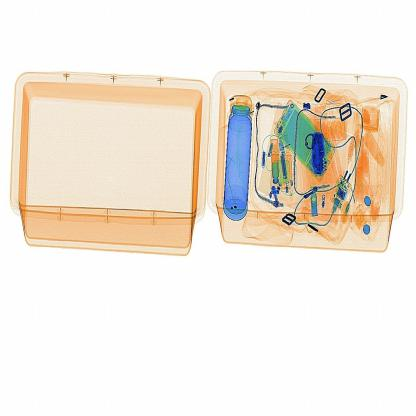scissors: (308, 126, 332, 187)
